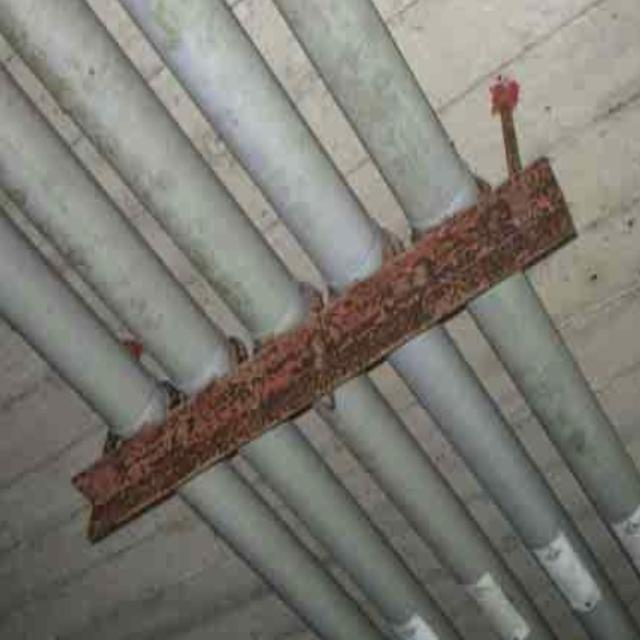corrosion: (37, 120, 577, 550)
